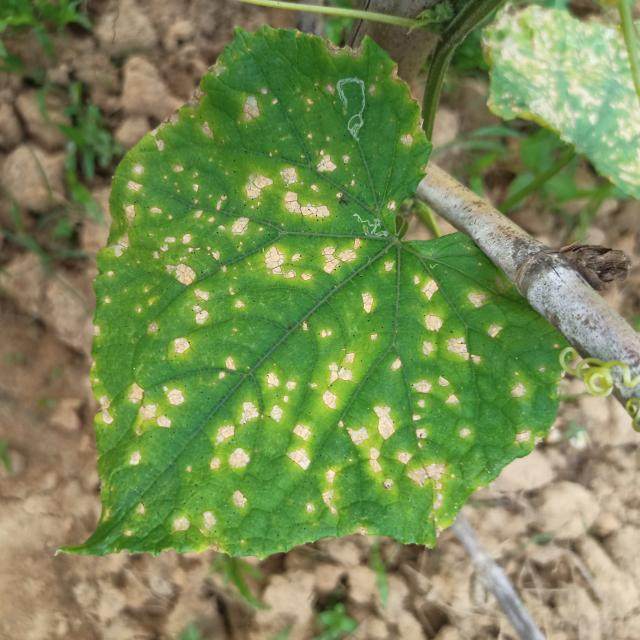disease_cucumber: (99, 57, 531, 541)
